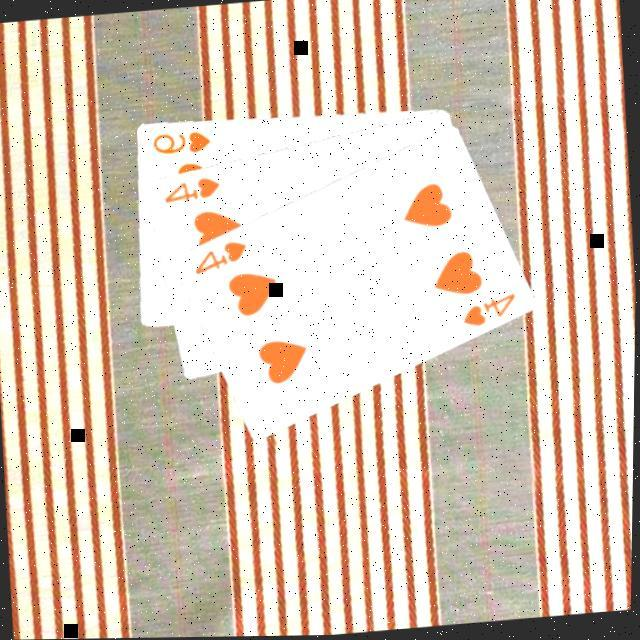4H: (187, 238, 249, 280), (456, 291, 518, 333), (158, 173, 222, 208)
9H: (146, 127, 212, 160)
